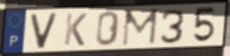0: (95, 10, 121, 48)
3: (160, 8, 187, 45)
5: (191, 6, 218, 45)
K: (62, 12, 89, 47)
M: (120, 7, 160, 48)
V: (29, 11, 59, 50)
